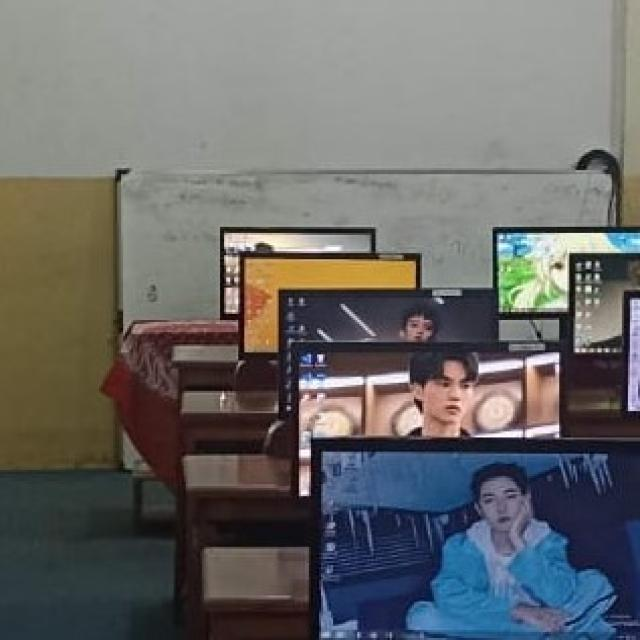onscreen: (314, 441, 639, 639), (294, 345, 558, 495), (240, 255, 420, 353), (220, 227, 375, 318), (496, 228, 640, 314), (284, 291, 498, 348), (572, 255, 640, 353), (628, 297, 640, 411)
